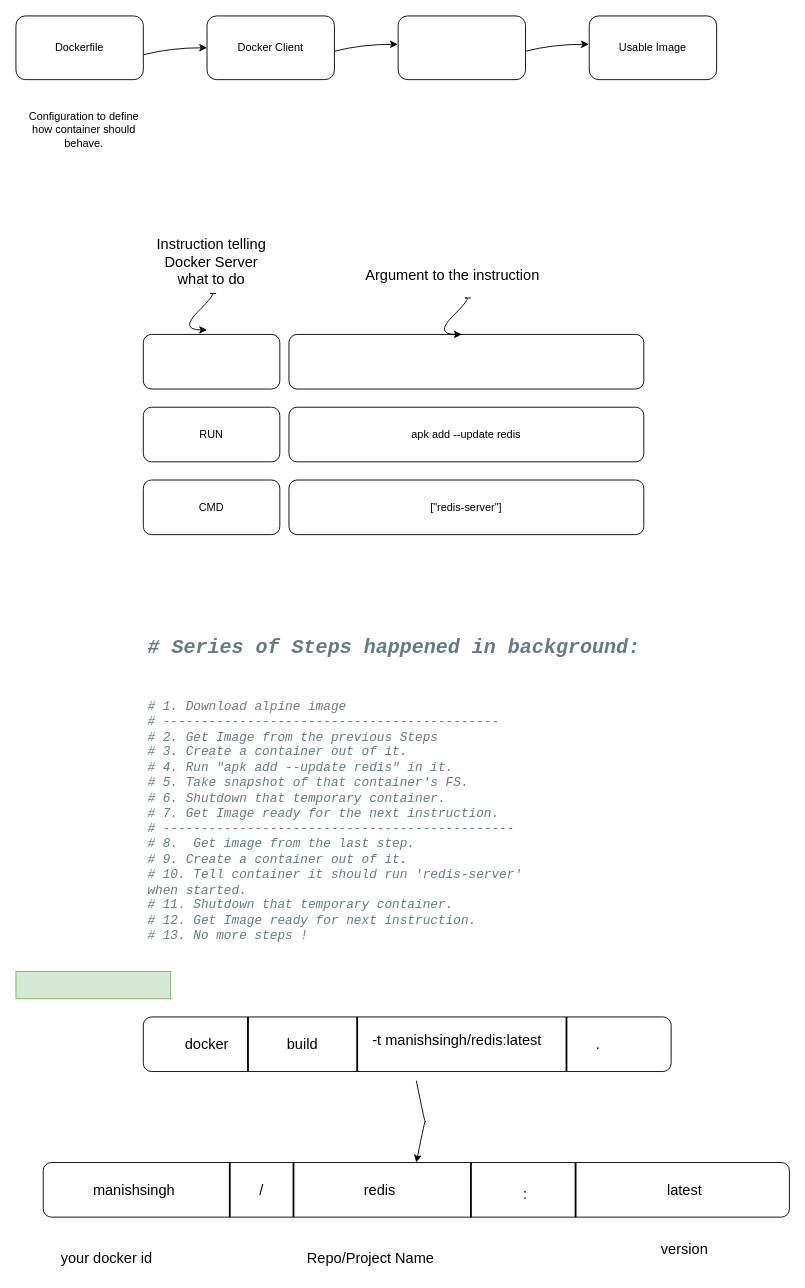
The diagram is 805 pixels wide and 1288 high, and some of its shapes have lost their labels. Each missing label, with the centre of its shape:
"alpine" goes at point 466,361.
"Docker Server" goes at point 461,47.
"FROM" goes at point 211,361.
"Tagging an Image:" goes at point 93,985.
